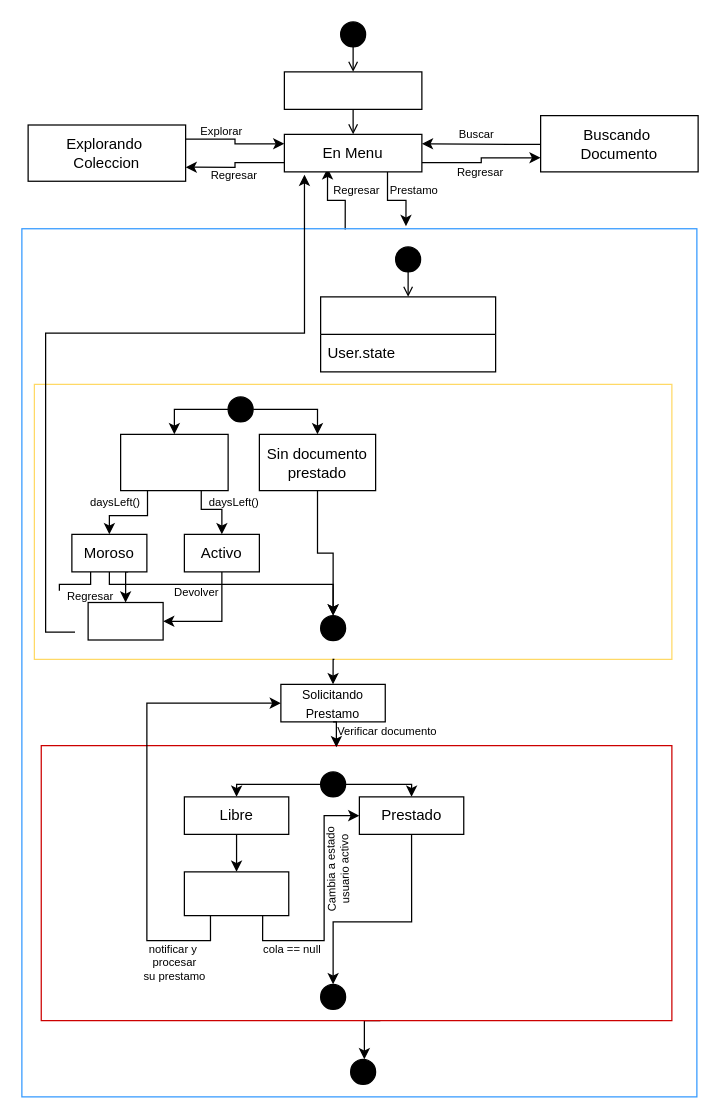
This 720x1119 diagram has some shape labels left out. The shapes that lost their labels are listed below. From the top down, each one's box as (x1, y1, x2, y2) in pixels, then its label:
(283, 71, 422, 109): En Biblioteca
(319, 296, 496, 372): Verificacion de Usuario
(119, 433, 228, 491): Con Documento
(87, 601, 163, 640): Documento Devuelto
(183, 871, 289, 916): Verificando Cola
